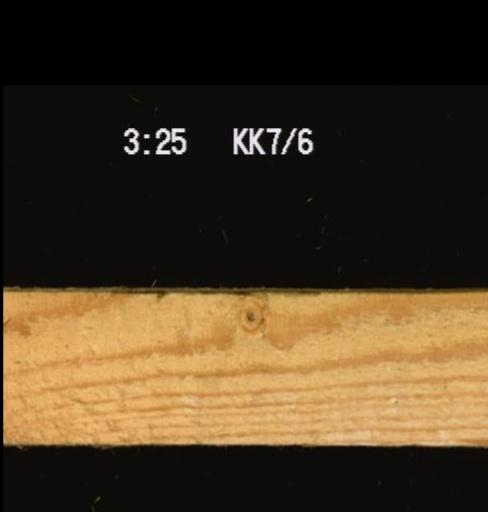small_knot: (231, 293, 268, 333)
